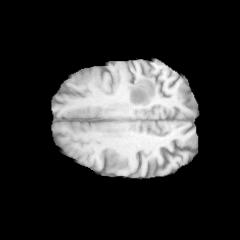glioma: (128, 78, 156, 105)
